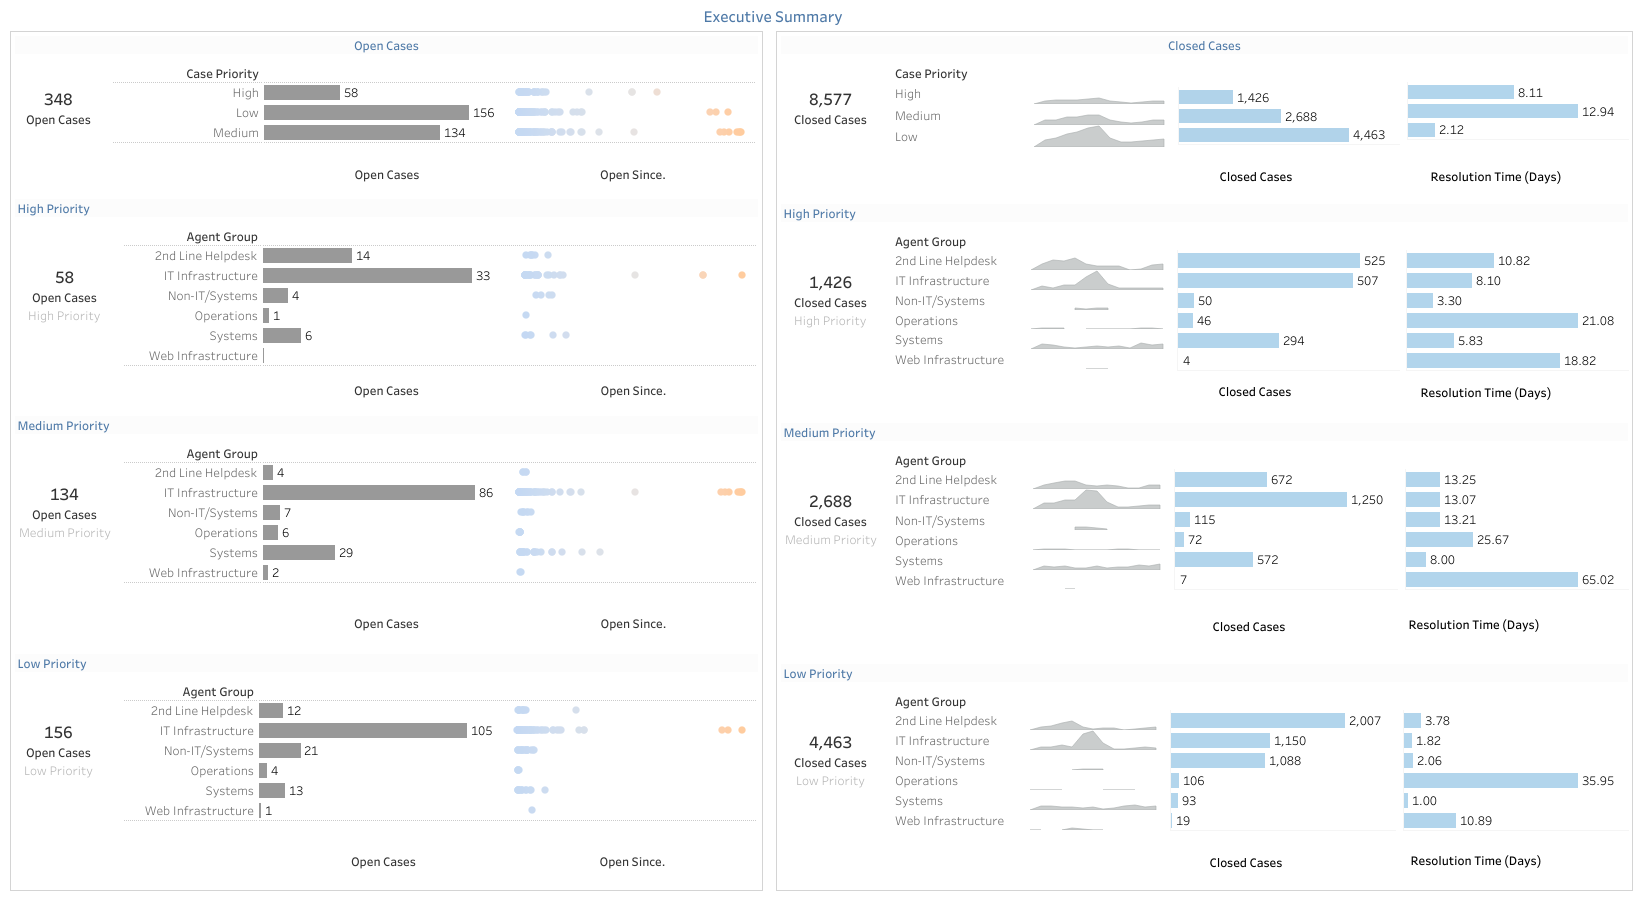

This screenshot's page, from the dashboard's own definition file:
{"tool":"tableau","page":{"name":"Executive Summary","canvas":[1650,900],"ordinal":1},"visuals":[{"type":"text","box":[695,8,156,15]},{"type":"text","box":[11,32,751,26]},{"type":"text","box":[777,32,855,26]},{"type":"worksheet","title":"Open Cases","mark":"Automatic","box":[11,58,97,137]},{"type":"worksheet","title":"All Cases -Open Priority","mark":"Automatic","rows":["Case Priority"],"cols":["Open Cases","Calculation_1191483577633267715"],"box":[108,58,654,137]},{"type":"worksheet","title":"Close cases","mark":"Automatic","box":[777,58,108,94]},{"type":"worksheet","title":"closed cases all","mark":"Area","rows":["Case Priority","Closed Cases"],"cols":["Close Date"],"box":[885,58,289,94]},{"type":"worksheet","title":"closed cases all (2)","mark":"Automatic","rows":["Case Priority"],"cols":["Closed Cases"],"box":[1174,58,229,94]},{"type":"worksheet","title":"Resolution Time","mark":"Bar","rows":["Case Priority"],"cols":["Calculation_2397603853161119745"],"box":[1403,58,229,94]},{"type":"blank","box":[777,152,855,48]},{"type":"text","box":[1217,161,100,30]},{"type":"text","box":[1428,161,151,30]},{"type":"text","box":[11,195,751,26]},{"type":"text","box":[777,200,855,26]},{"type":"worksheet","title":"High Priority Open Cases","mark":"Automatic","box":[11,221,108,191]},{"type":"worksheet","title":"High Priority","mark":"Automatic","rows":["Agent Group"],"cols":["Open Cases","Calculation_1191483577633267715"],"box":[119,221,643,191]},{"type":"worksheet","title":"Close cases - high","mark":"Automatic","box":[777,226,108,148]},{"type":"worksheet","title":"Closed Cases: High","mark":"Area","rows":["Agent Group","Closed Cases"],"cols":["Close Date"],"box":[885,226,288,148]},{"type":"worksheet","title":"closed cases - high","mark":"Automatic","rows":["Agent Group"],"cols":["Closed Cases"],"box":[1173,226,229.5,148]},{"type":"worksheet","title":"Resolution Time (2)","mark":"Bar","rows":["Agent Group"],"cols":["Calculation_2397603853161119745"],"box":[1402.5,226,229.5,148]},{"type":"blank","box":[777,374,855,45]},{"type":"text","box":[1216,376,100,30]},{"type":"text","box":[1418,377,151,30]},{"type":"text","box":[11,412,751,26]},{"type":"text","box":[777,419,855,26]},{"type":"worksheet","title":"Medium Priority Open Cases","mark":"Automatic","box":[11,438,108,212]},{"type":"worksheet","title":"Medium Priority","mark":"Automatic","rows":["Agent Group"],"cols":["Open Cases","Calculation_1191483577633267715"],"box":[119,438,643,212]},{"type":"worksheet","title":"Close cases (4)- medium","mark":"Automatic","box":[777,445,108,150]},{"type":"worksheet","title":"Closed Cases: Medium","mark":"Area","rows":["Agent Group","Closed Cases"],"cols":["Close Date"],"box":[885,445,285,150]},{"type":"worksheet","title":"closed cases - medium","mark":"Automatic","rows":["Agent Group"],"cols":["Closed Cases"],"box":[1170,445,231,150]},{"type":"worksheet","title":"Resolution Time (4)","mark":"Bar","rows":["Agent Group"],"cols":["Calculation_2397603853161119745"],"box":[1401,445,231,150]},{"type":"blank","box":[777,595,855,65]},{"type":"text","box":[1406,609,151,30]},{"type":"text","box":[1210,611,100,30]},{"type":"text","box":[11,650,751,26]},{"type":"text","box":[777,660,855,26]},{"type":"worksheet","title":"Low Priority","mark":"Automatic","rows":["Agent Group"],"cols":["Open Cases","Calculation_1191483577633267715"],"box":[119,676,643,209]},{"type":"worksheet","title":"Close cases (3) - low","mark":"Automatic","box":[777,686,108,149]},{"type":"worksheet","title":"Closed Cases: Low","mark":"Area","rows":["Agent Group","Closed Cases"],"cols":["Close Date"],"box":[885,686,281,149]},{"type":"worksheet","title":"closed cases - low","mark":"Automatic","rows":["Agent Group"],"cols":["Closed Cases"],"box":[1166,686,233,149]},{"type":"worksheet","title":"Resolution Time (3)","mark":"Bar","rows":["Agent Group"],"cols":["Calculation_2397603853161119745"],"box":[1399,686,233,149]},{"type":"worksheet","title":"Low Priority Open Cases","mark":"Automatic","box":[15,716,104,67]},{"type":"text","box":[1408,845,151,30]},{"type":"text","box":[1207,847,100,30]}]}

Visuals, with their boxes in screenshot pixels (x1, y1, x2, y2), scaled from the page's 1650x900 canvas onto the 1649x899 screenshot:
text: box=[695, 8, 850, 23]
text: box=[11, 32, 762, 58]
text: box=[777, 32, 1631, 58]
"Open Cases" worksheet: box=[11, 58, 108, 195]
"All Cases -Open Priority" worksheet: box=[108, 58, 762, 195]
"Close cases" worksheet: box=[777, 58, 884, 152]
"closed cases all" worksheet (Area marks): box=[884, 58, 1173, 152]
"closed cases all (2)" worksheet: box=[1173, 58, 1402, 152]
"Resolution Time" worksheet (Bar marks): box=[1402, 58, 1631, 152]
blank: box=[777, 152, 1631, 200]
text: box=[1216, 161, 1316, 191]
text: box=[1427, 161, 1578, 191]
text: box=[11, 195, 762, 221]
text: box=[777, 200, 1631, 226]
"High Priority Open Cases" worksheet: box=[11, 221, 119, 412]
"High Priority" worksheet: box=[119, 221, 762, 412]
"Close cases - high" worksheet: box=[777, 226, 884, 374]
"Closed Cases: High" worksheet (Area marks): box=[884, 226, 1172, 374]
"closed cases - high" worksheet: box=[1172, 226, 1402, 374]
"Resolution Time (2)" worksheet (Bar marks): box=[1402, 226, 1631, 374]
blank: box=[777, 374, 1631, 419]
text: box=[1215, 376, 1315, 406]
text: box=[1417, 377, 1568, 407]
text: box=[11, 412, 762, 438]
text: box=[777, 419, 1631, 445]
"Medium Priority Open Cases" worksheet: box=[11, 438, 119, 649]
"Medium Priority" worksheet: box=[119, 438, 762, 649]
"Close cases (4)- medium" worksheet: box=[777, 445, 884, 594]
"Closed Cases: Medium" worksheet (Area marks): box=[884, 445, 1169, 594]
"closed cases - medium" worksheet: box=[1169, 445, 1400, 594]
"Resolution Time (4)" worksheet (Bar marks): box=[1400, 445, 1631, 594]
blank: box=[777, 594, 1631, 659]
text: box=[1405, 608, 1556, 638]
text: box=[1209, 610, 1309, 640]
text: box=[11, 649, 762, 675]
text: box=[777, 659, 1631, 685]
"Low Priority" worksheet: box=[119, 675, 762, 884]
"Close cases (3) - low" worksheet: box=[777, 685, 884, 834]
"Closed Cases: Low" worksheet (Area marks): box=[884, 685, 1165, 834]
"closed cases - low" worksheet: box=[1165, 685, 1398, 834]
"Resolution Time (3)" worksheet (Bar marks): box=[1398, 685, 1631, 834]
"Low Priority Open Cases" worksheet: box=[15, 715, 119, 782]
text: box=[1407, 844, 1558, 874]
text: box=[1206, 846, 1306, 876]
